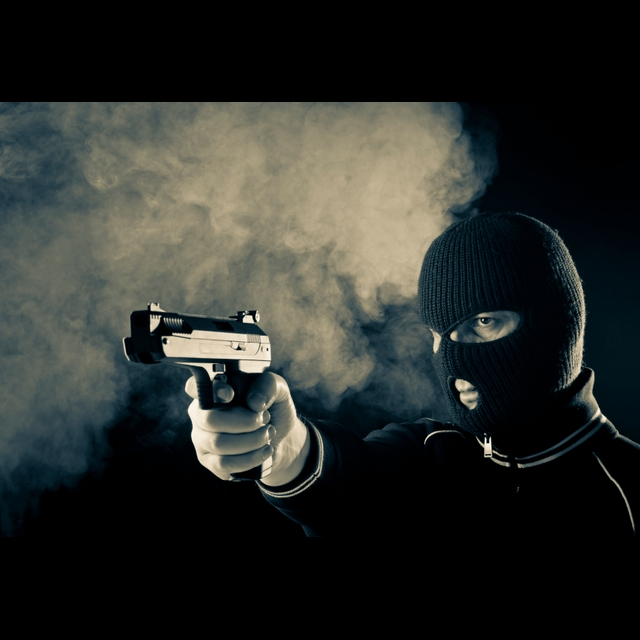SILAH: (109, 283, 304, 492)
